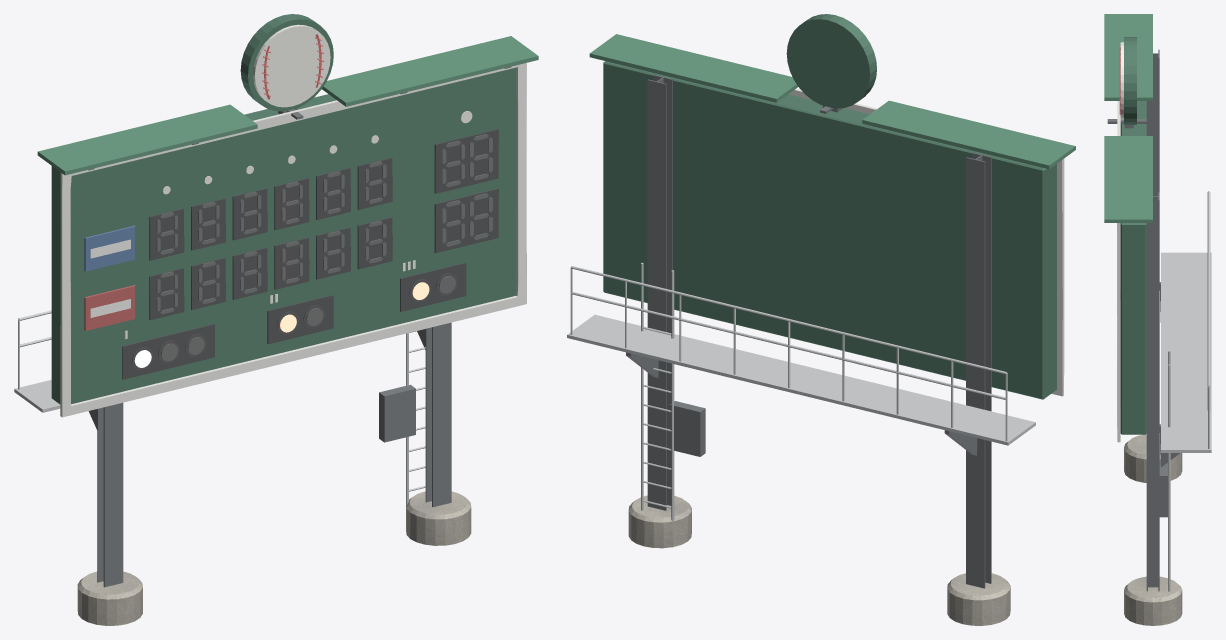
File: scoreboard.glb
3 renders of one model, left to right at view 1: azimuth 30°, elevation 25°; view 2: azimuth 150°, elevation 25°; view 3: azimuth 270°, elevation 25°, orthographic. The views are drawn at different scales.
Visible parts, largest first — view 1: scoreboard_board, scoreboard_board_k, scoreboard_paint_w, scoreboard_paint_g, scoreboard_steel_d, scoreboard_seg_off, scoreboard_concrete, scoreboard_ball, scoreboard_galv, scoreboard_flag_w, scoreboard_pad_r, scoreboard_pad_b (+1 smaller); view 2: scoreboard_board, scoreboard_steel_d, scoreboard_galv, scoreboard_paint_g, scoreboard_concrete, scoreboard_paint_w; view 3: scoreboard_galv, scoreboard_paint_g, scoreboard_steel_d, scoreboard_board, scoreboard_concrete, scoreboard_paint_w, scoreboard_ball.
Boxes of the visible parts, left/top/right/bottom form: scoreboard_board: left=51, top=14, right=516, bottom=404; scoreboard_board_k: left=122, top=129, right=498, bottom=379; scoreboard_paint_w: left=60, top=63, right=526, bottom=417; scoreboard_paint_g: left=37, top=36, right=538, bottom=175; scoreboard_steel_d: left=88, top=66, right=511, bottom=587; scoreboard_seg_off: left=156, top=134, right=492, bottom=361; scoreboard_concrete: left=77, top=491, right=471, bottom=625; scoreboard_ball: left=253, top=24, right=330, bottom=107; scoreboard_galv: left=14, top=310, right=425, bottom=504; scoreboard_flag_w: left=90, top=111, right=472, bottom=339; scoreboard_pad_r: left=84, top=285, right=135, bottom=330; scoreboard_pad_b: left=84, top=225, right=135, bottom=271; scoreboard_board: left=603, top=14, right=1056, bottom=399; scoreboard_steel_d: left=626, top=75, right=991, bottom=588; scoreboard_galv: left=567, top=263, right=1035, bottom=521; scoreboard_paint_g: left=589, top=34, right=1075, bottom=169; scoreboard_concrete: left=628, top=495, right=1010, bottom=625; scoreboard_paint_w: left=789, top=88, right=1064, bottom=396; scoreboard_galv: left=1161, top=191, right=1211, bottom=591; scoreboard_paint_g: left=1104, top=14, right=1152, bottom=222; scoreboard_steel_d: left=1107, top=49, right=1179, bottom=591; scoreboard_board: left=1120, top=37, right=1146, bottom=434; scoreboard_concrete: left=1124, top=434, right=1182, bottom=625; scoreboard_paint_w: left=1117, top=101, right=1120, bottom=442; scoreboard_ball: left=1120, top=42, right=1123, bottom=119.
Bounding box in the file's own units: 7.5 × 8.53 × 1.65.
Materials: 16 (1 with a texture image).
